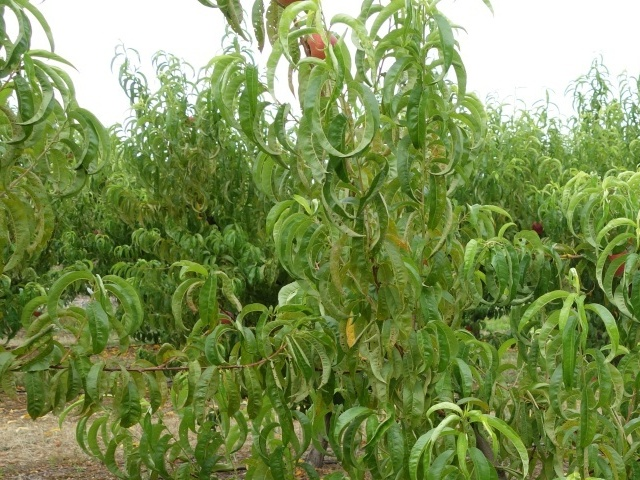peach: (299, 25, 340, 65)
